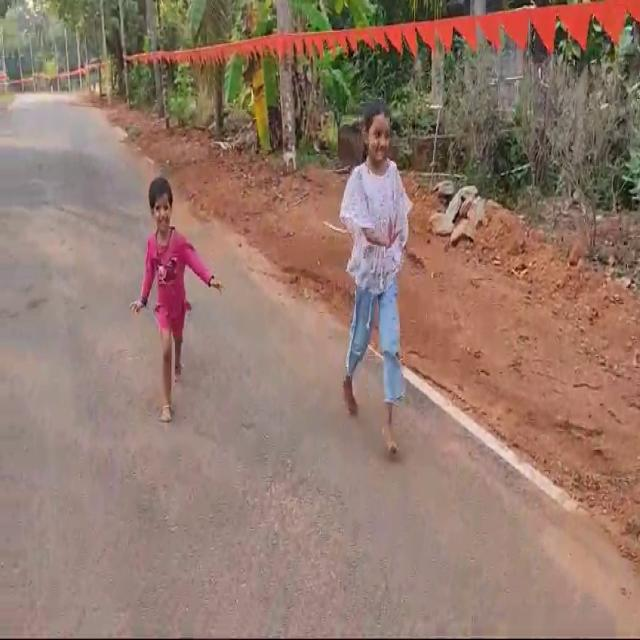child: (324, 71, 458, 490), (121, 131, 214, 462)
